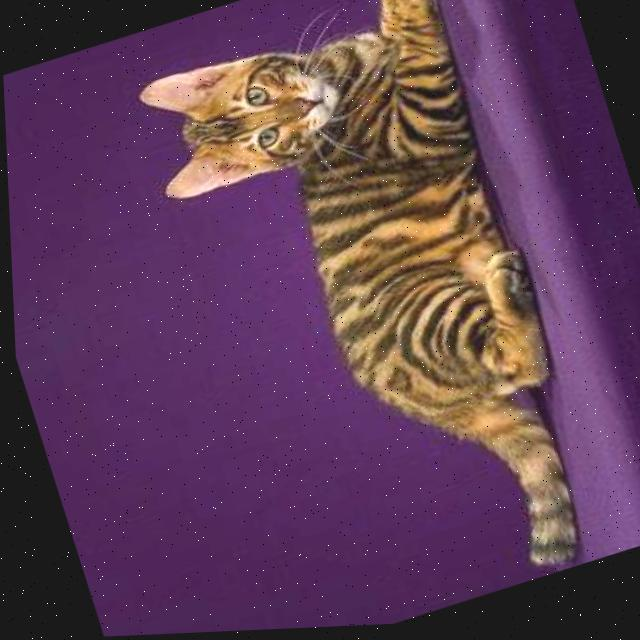Toyger: (106, 0, 617, 636)
